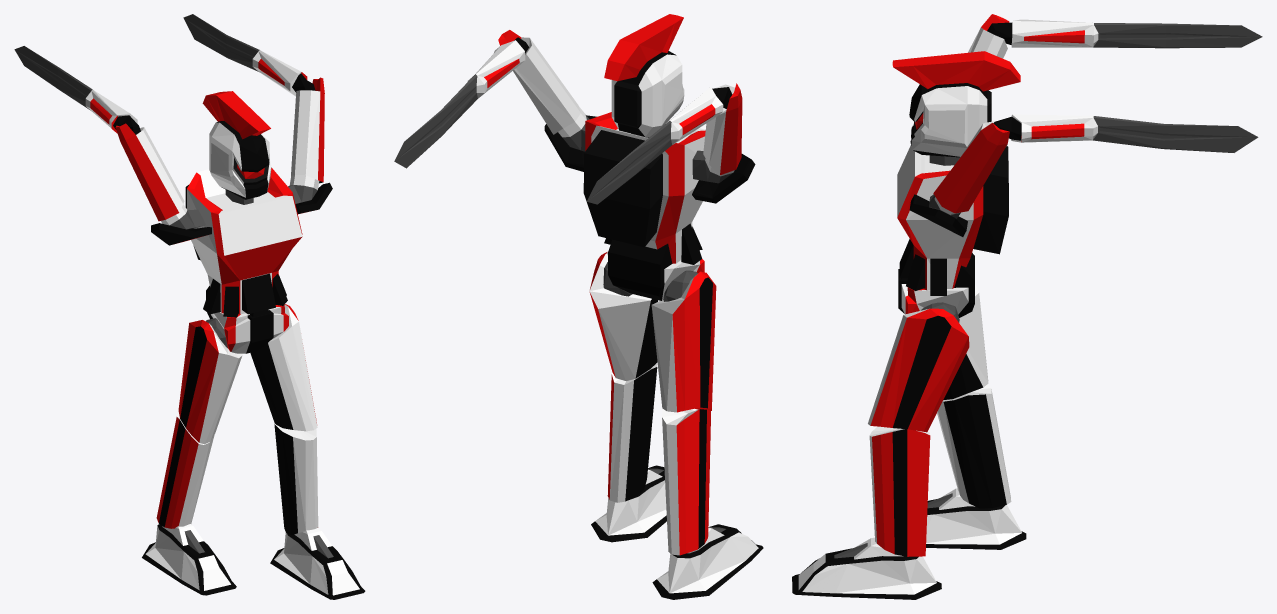
Rendered from robots_000004.obj.
3 views of the same model, side by side, from view 1: azimuth 30°, elevation 25°; view 2: azimuth 150°, elevation 25°; view 3: azimuth 270°, elevation 25° (orthographic). The views are drawn at different scales.
Visible parts, largest first — view 1: Chest_plate_Cube.004, R_Forearm.002_Cube.033, R_Forearm.001_Cube.028, Head_gladiator_Cube.024, R_Thigh_Cube.005, R_Thigh.002_Cube.027, R_Shin.002_Cube.029, R_Foot_Cube, R_Foot.002_Cube.035, R_Shin_Cube.007, Pelvis_Cube.006, R_Arm.002_Cube.032 (+1 smaller); view 2: Chest_plate_Cube.004, Head_gladiator_Cube.024, R_Thigh_Cube.005, R_Forearm.002_Cube.033, R_Shin_Cube.007, R_Forearm.001_Cube.028, R_Shin.002_Cube.029, R_Thigh.002_Cube.027, R_Foot_Cube, Pelvis_Cube.006, R_Foot.002_Cube.035, R_Arm.002_Cube.032 (+2 smaller); view 3: R_Forearm.002_Cube.033, Chest_plate_Cube.004, Head_gladiator_Cube.024, R_Thigh.002_Cube.027, R_Forearm.001_Cube.028, R_Shin.002_Cube.029, R_Shin_Cube.007, R_Foot.002_Cube.035, R_Foot_Cube, R_Thigh_Cube.005, Pelvis_Cube.006, R_Arm.003_Cube.034.
Part boxes in pixels (left/top/right/bottom): Chest_plate_Cube.004: left=185, top=168, right=302, bottom=317; R_Forearm.002_Cube.033: left=183, top=14, right=324, bottom=183; R_Forearm.001_Cube.028: left=14, top=46, right=184, bottom=221; Head_gladiator_Cube.024: left=202, top=91, right=271, bottom=199; R_Thigh_Cube.005: left=178, top=320, right=242, bottom=444; R_Thigh.002_Cube.027: left=250, top=304, right=317, bottom=431; R_Shin.002_Cube.029: left=274, top=423, right=318, bottom=535; R_Foot_Cube: left=142, top=524, right=236, bottom=595; R_Foot.002_Cube.035: left=270, top=528, right=365, bottom=599; R_Shin_Cube.007: left=156, top=417, right=214, bottom=528; Pelvis_Cube.006: left=206, top=286, right=288, bottom=353; R_Arm.002_Cube.032: left=151, top=204, right=211, bottom=245; Chest_plate_Cube.004: left=583, top=112, right=705, bottom=264; Head_gladiator_Cube.024: left=604, top=14, right=684, bottom=137; R_Thigh_Cube.005: left=651, top=271, right=716, bottom=412; R_Forearm.002_Cube.033: left=394, top=30, right=580, bottom=168; R_Shin_Cube.007: left=662, top=408, right=710, bottom=555; R_Forearm.001_Cube.028: left=587, top=83, right=742, bottom=204; R_Shin.002_Cube.029: left=607, top=364, right=657, bottom=502; R_Thigh.002_Cube.027: left=589, top=252, right=657, bottom=380; R_Foot_Cube: left=652, top=524, right=763, bottom=599; Pelvis_Cube.006: left=607, top=239, right=704, bottom=300; R_Foot.002_Cube.035: left=591, top=465, right=666, bottom=542; R_Arm.002_Cube.032: left=692, top=150, right=755, bottom=203; R_Forearm.002_Cube.033: left=933, top=114, right=1258, bottom=213; Chest_plate_Cube.004: left=897, top=144, right=1008, bottom=295; Head_gladiator_Cube.024: left=892, top=51, right=1020, bottom=157; R_Thigh.002_Cube.027: left=868, top=308, right=969, bottom=432; R_Forearm.001_Cube.028: left=968, top=14, right=1262, bottom=58; R_Shin.002_Cube.029: left=869, top=426, right=930, bottom=556; R_Shin_Cube.007: left=937, top=384, right=1011, bottom=508; R_Foot.002_Cube.035: left=792, top=537, right=941, bottom=599; R_Foot_Cube: left=926, top=488, right=1026, bottom=549; R_Thigh_Cube.005: left=943, top=284, right=988, bottom=399; Pelvis_Cube.006: left=898, top=253, right=974, bottom=317; R_Arm.003_Cube.034: left=909, top=194, right=967, bottom=236.
Size of the model in its own units: 1.51 by 3.17 by 2.66.
